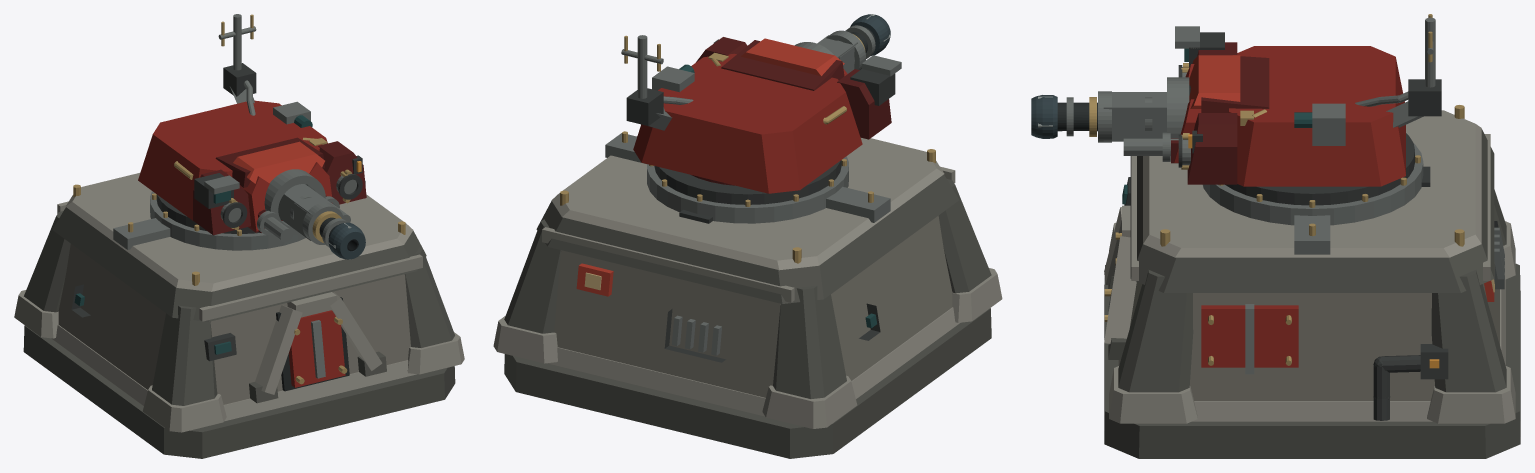
Rendered from martian_heavy_weapon_bunker_v06_flat_export.glb.
The picture shows the model from 3 angles, left to right: view 1: azimuth 30°, elevation 25°; view 2: azimuth 150°, elevation 25°; view 3: azimuth 270°, elevation 25°; orthographic projection. The views are drawn at different scales.
Visible parts, largest first — view 1: 03_monolithic_bunker_mass, 01_foundation_granular_ferrocrete, 05_top_concrete_skin, 16_martian_red_turret_armor, 04_upper_blast_cap, 06_corner_armor_buttress_WS, 02_lower_blast_raft, 53_south_slab_anchor_strip, 06_corner_armor_buttress_ES, 09_steel_service_hatch, 06_corner_armor_buttress_WN, 13_ring_lower_bearing_seat (+25 smaller); view 2: 03_monolithic_bunker_mass, 16_martian_red_turret_armor, 05_top_concrete_skin, 01_foundation_granular_ferrocrete, 04_upper_blast_cap, 02_lower_blast_raft, 06_corner_armor_buttress_WN, 13_ring_lower_bearing_seat, 06_corner_armor_buttress_EN, 06_corner_armor_buttress_WS, 14_ring_open_bearing_race, 07_corner_buttress_foot_WN (+18 smaller); view 3: 05_top_concrete_skin, 16_martian_red_turret_armor, 03_monolithic_bunker_mass, 01_foundation_granular_ferrocrete, 04_upper_blast_cap, 06_corner_armor_buttress_ES, 06_corner_armor_buttress_EN, 55_east_wall_controller_armor, 02_lower_blast_raft, 13_ring_lower_bearing_seat, 18_turret_front_cheek_E, 07_corner_buttress_foot_ES (+25 smaller).
Part boxes in pixels (x1=…): 03_monolithic_bunker_mass: x1=58, y1=243, x2=410, y2=404; 01_foundation_granular_ferrocrete: x1=23, y1=325, x2=455, y2=458; 05_top_concrete_skin: x1=65, y1=173, x2=413, y2=291; 16_martian_red_turret_armor: x1=138, y1=100, x2=327, y2=220; 04_upper_blast_cap: x1=52, y1=207, x2=426, y2=321; 06_corner_armor_buttress_WS: x1=152, y1=305, x2=217, y2=405; 02_lower_blast_raft: x1=51, y1=324, x2=416, y2=421; 53_south_slab_anchor_strip: x1=199, y1=254, x2=422, y2=321; 06_corner_armor_buttress_ES: x1=404, y1=247, x2=454, y2=347; 09_steel_service_hatch: x1=288, y1=310, x2=345, y2=387; 06_corner_armor_buttress_WN: x1=24, y1=211, x2=70, y2=312; 13_ring_lower_bearing_seat: x1=150, y1=191, x2=305, y2=250; 03_monolithic_bunker_mass: x1=554, y1=215, x2=952, y2=397; 16_martian_red_turret_armor: x1=633, y1=53, x2=862, y2=193; 05_top_concrete_skin: x1=551, y1=136, x2=944, y2=270; 01_foundation_granular_ferrocrete: x1=504, y1=308, x2=991, y2=458; 04_upper_blast_cap: x1=536, y1=174, x2=959, y2=303; 02_lower_blast_raft: x1=548, y1=307, x2=960, y2=416; 06_corner_armor_buttress_WN: x1=773, y1=286, x2=846, y2=398; 13_ring_lower_bearing_seat: x1=647, y1=156, x2=848, y2=223; 06_corner_armor_buttress_EN: x1=504, y1=219, x2=561, y2=333; 06_corner_armor_buttress_WS: x1=938, y1=179, x2=991, y2=293; 14_ring_open_bearing_race: x1=654, y1=160, x2=841, y2=204; 07_corner_buttress_foot_WN: x1=762, y1=375, x2=857, y2=428; 05_top_concrete_skin: x1=1143, y1=110, x2=1481, y2=257; 16_martian_red_turret_armor: x1=1228, y1=46, x2=1405, y2=186; 03_monolithic_bunker_mass: x1=1130, y1=262, x2=1499, y2=400; 01_foundation_granular_ferrocrete: x1=1104, y1=263, x2=1520, y2=458; 04_upper_blast_cap: x1=1130, y1=129, x2=1494, y2=292; 06_corner_armor_buttress_ES: x1=1118, y1=270, x2=1193, y2=392; 06_corner_armor_buttress_EN: x1=1431, y1=270, x2=1506, y2=392; 55_east_wall_controller_armor: x1=1201, y1=305, x2=1298, y2=367; 02_lower_blast_raft: x1=1118, y1=279, x2=1505, y2=421; 13_ring_lower_bearing_seat: x1=1203, y1=143, x2=1423, y2=225; 18_turret_front_cheek_E: x1=1187, y1=113, x2=1237, y2=184; 07_corner_buttress_foot_ES: x1=1109, y1=366, x2=1197, y2=423.
Size of the model in its own units: 3.04 by 3.01 by 3.53.
